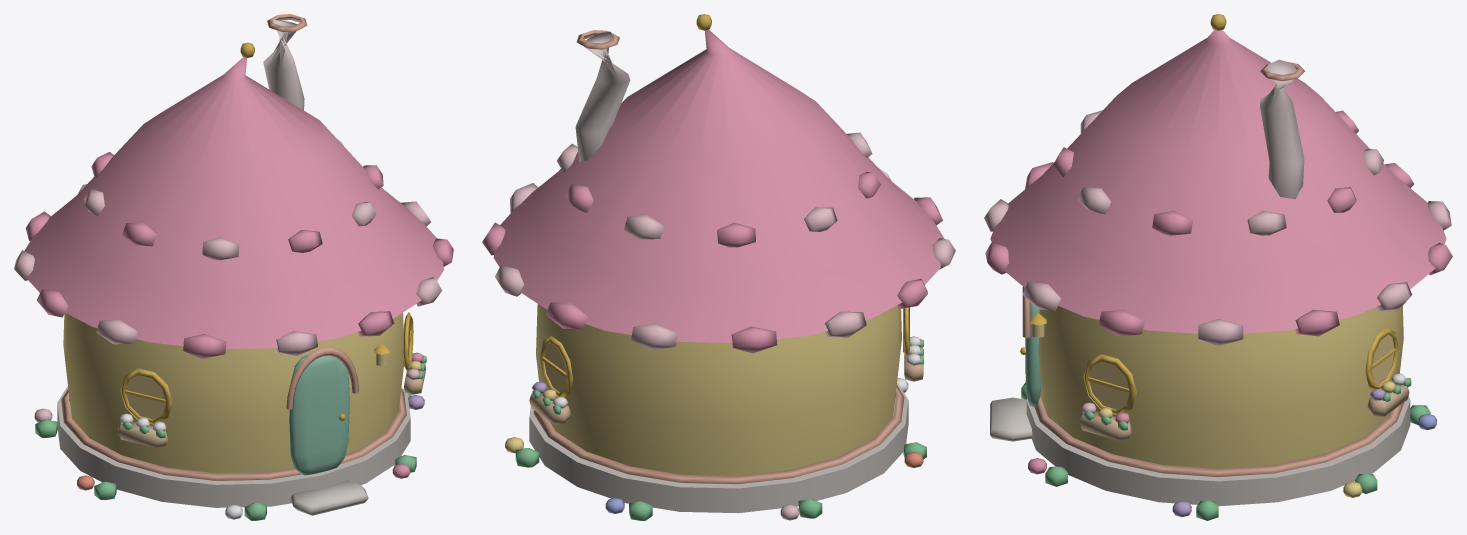
Rendered from fae_cottage_a.gltf.
The picture shows the model from 3 angles, left to right: view 1: azimuth 30°, elevation 25°; view 2: azimuth 150°, elevation 25°; view 3: azimuth 270°, elevation 25°; orthographic projection. The views are drawn at different scales.
Parts seen in each view (by area): view 1: fae_cottage_a; view 2: fae_cottage_a; view 3: fae_cottage_a.
Boxes of the visible parts, x1=… form: fae_cottage_a: x1=14, y1=14, x2=453, y2=520; fae_cottage_a: x1=482, y1=14, x2=955, y2=520; fae_cottage_a: x1=984, y1=14, x2=1452, y2=520.
Size of what is drawn, in the model's own units: 6.97 by 6.89 by 6.84.
